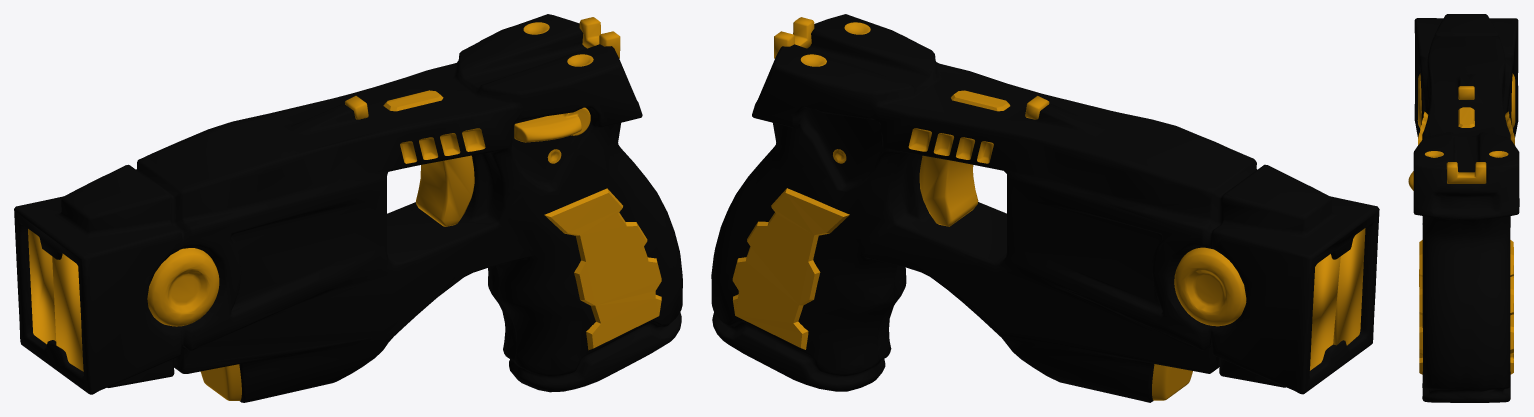
File: taser.fbx
3 renders of one model, left to right at view 1: azimuth 30°, elevation 25°; view 2: azimuth 150°, elevation 25°; view 3: azimuth 270°, elevation 25°, orthographic. The views are drawn at different scales.
Visible parts, largest first — view 1: Main_high.006, Main_high.005, Main_high.003, Main_high.002, Trigger_high, Main_high.004, Selector_high, Main_high.001, Main_high; view 2: Main_high.006, Main_high.005, Main_high.003, Main_high.002, Trigger_high, Main_high.004, Main_high.001, Main_high; view 3: Main_high.006, Main_high.005, Main_high.001, Main_high.004, Main_high.002.
Boxes of the visible parts, x1,y1,x2,y2 form: Main_high.006: (14,14,682,402); Main_high.005: (383,90,661,350); Main_high.003: (28,229,83,371); Main_high.002: (147,248,219,326); Trigger_high: (416,155,474,226); Main_high.004: (400,22,593,163); Selector_high: (514,107,590,142); Main_high.001: (345,17,620,119); Main_high: (200,364,241,400); Main_high.006: (711,14,1379,402); Main_high.005: (732,90,1010,349); Main_high.003: (1310,228,1365,370); Main_high.002: (1174,247,1246,326); Trigger_high: (919,155,978,226); Main_high.004: (800,22,993,163); Main_high.001: (774,17,1049,119); Main_high: (1152,364,1192,400); Main_high.006: (1413,14,1519,402); Main_high.005: (1419,107,1513,374); Main_high.001: (1446,86,1486,183); Main_high.004: (1418,111,1515,157); Main_high.002: (1417,73,1515,128).
Size of the model in its own units: 18.71 by 9.65 by 3.94.
